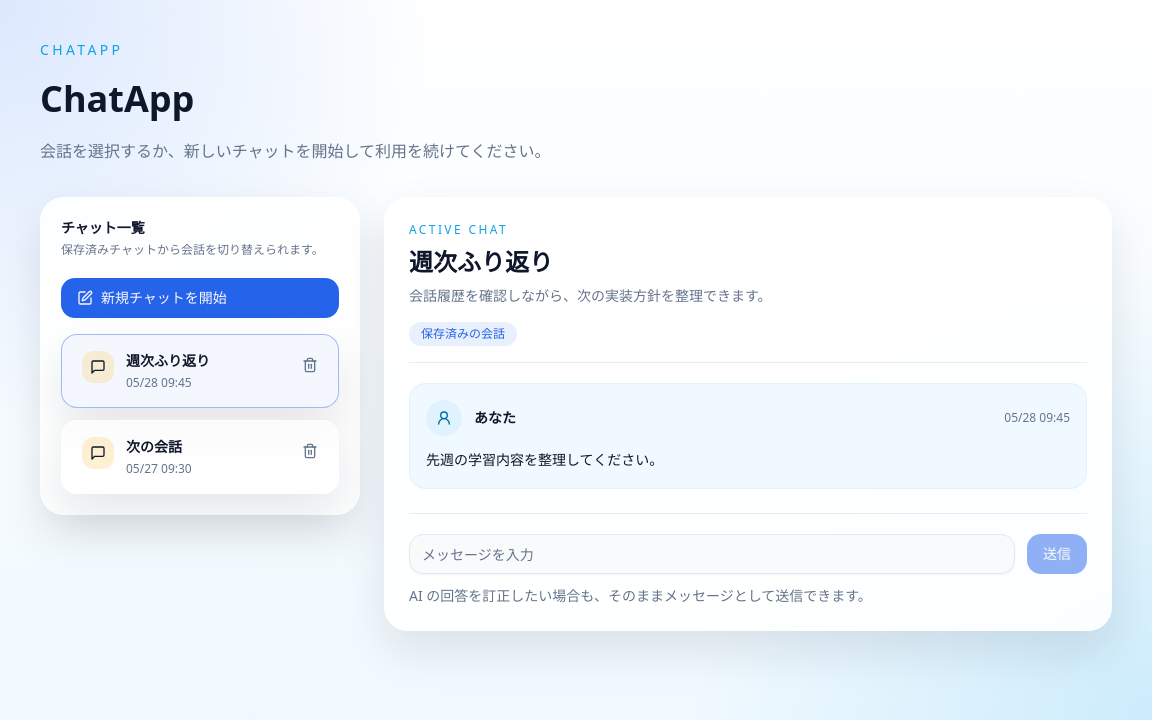
Test: TopRoute workspace behavior › keeps the active pane when deleting a non-selected chat
Expected: the heading "週次ふり返り" is shown, [409,245,553,278]
What coordinates should you click on to do the following:
click the button named "次の会話を削除"
I would click on:
 (310, 451)
Its box is [290,433,330,469].
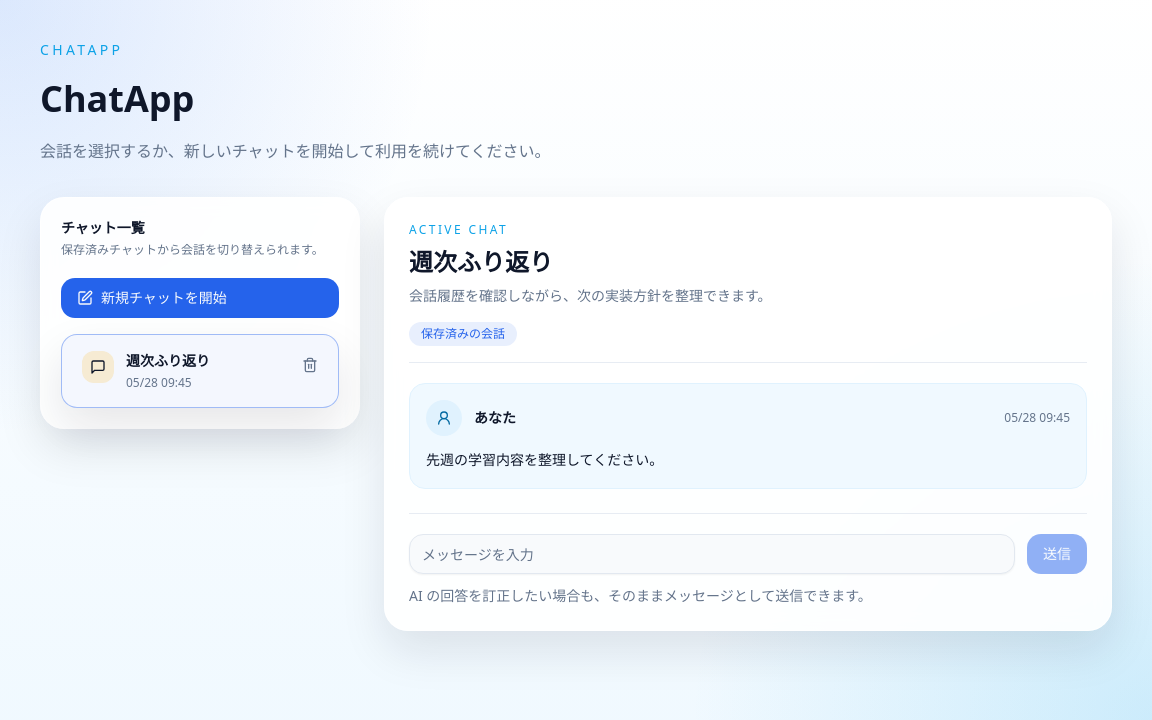
Expected: the heading "週次ふり返り" is shown, [409,245,553,278]
Result: the button "次の会話" is gone
